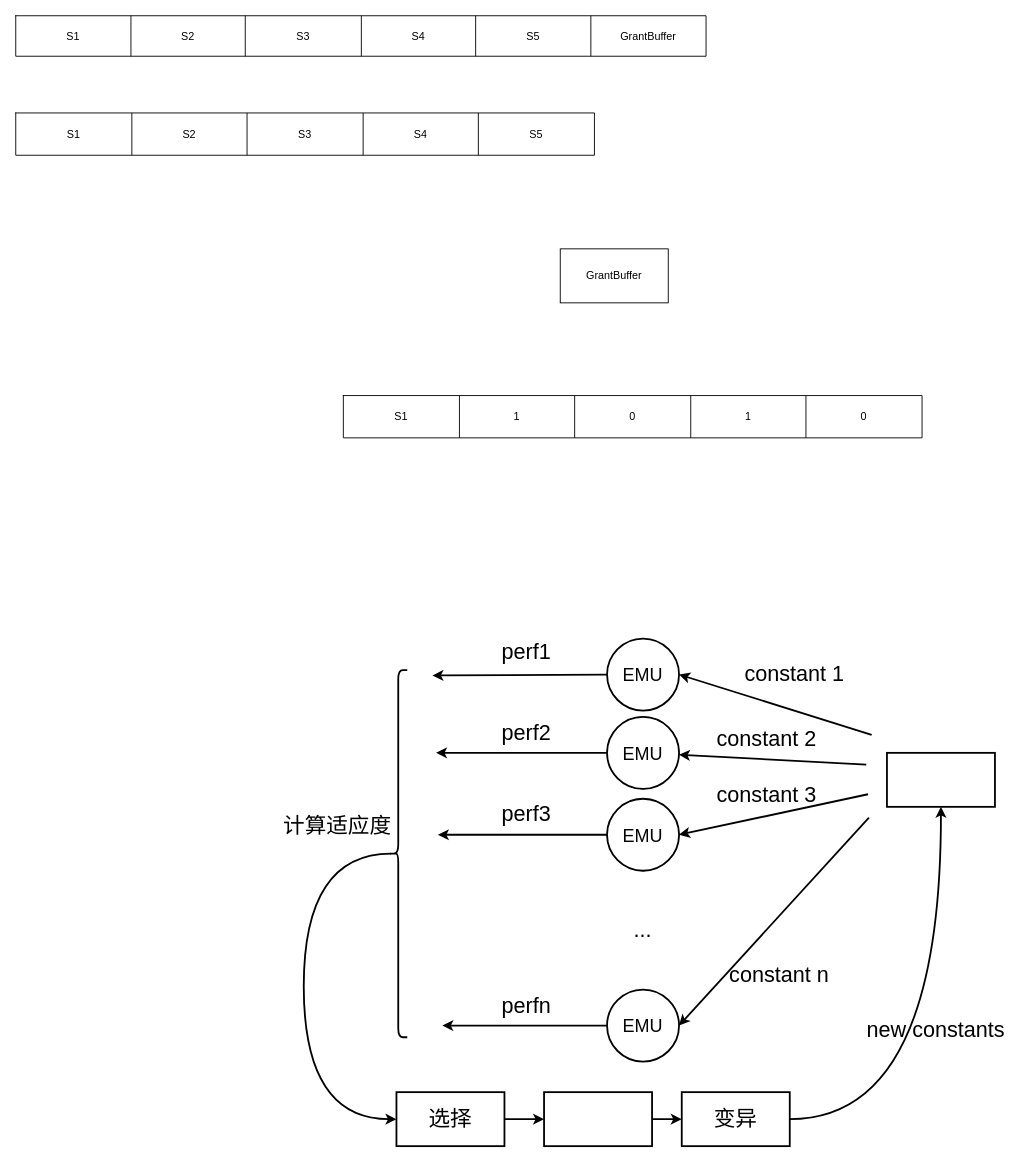
Image size: 1022x1163. Some labels were removed from this diagram. The centre of each missing label's shape, as x and y in pixels:
"交叉" belongs at [597,1119].
"求解器" belongs at [940,779].
